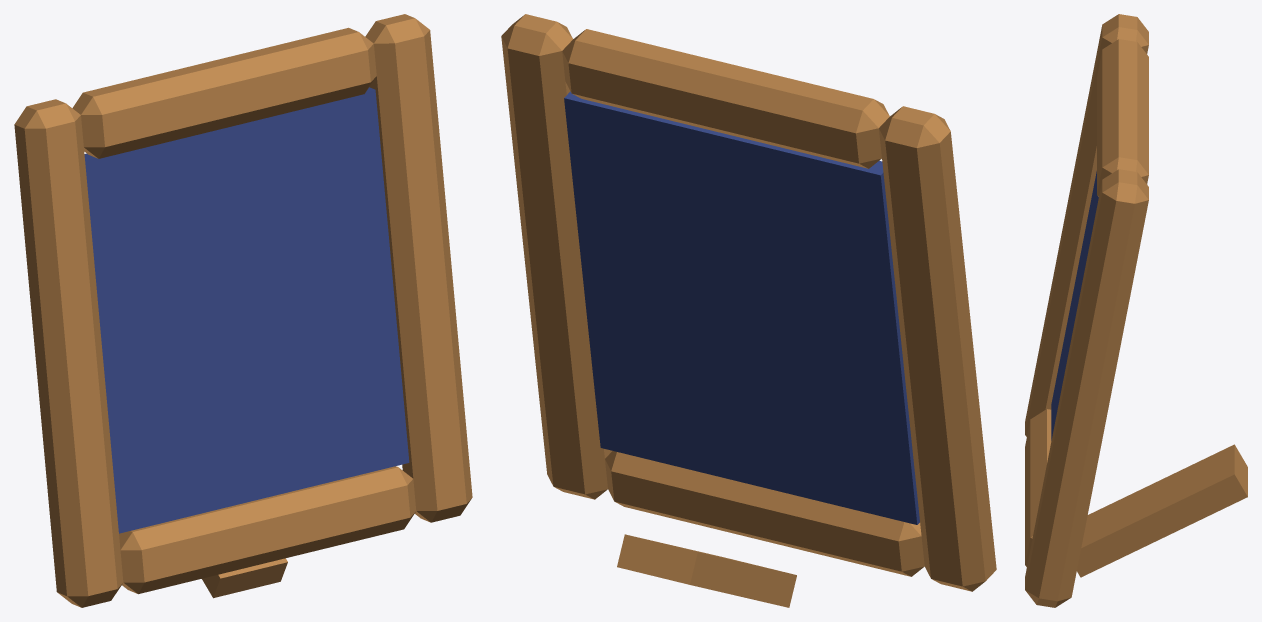
Rendered from framed_photo.glb.
3 views of the same model, side by side, from view 1: azimuth 30°, elevation 25°; view 2: azimuth 150°, elevation 25°; view 3: azimuth 270°, elevation 25° (orthographic). The views are drawn at different scales.
Parts seen in each view (by area): view 1: framed_photo; view 2: framed_photo; view 3: framed_photo.
Part boxes in pixels (x1,y1,x2,y2): framed_photo: (14,14,472,607); framed_photo: (501,14,996,607); framed_photo: (1025,14,1247,607).
Bounding box in the file's own units: 0.18 × 0.2164 × 0.0941.
